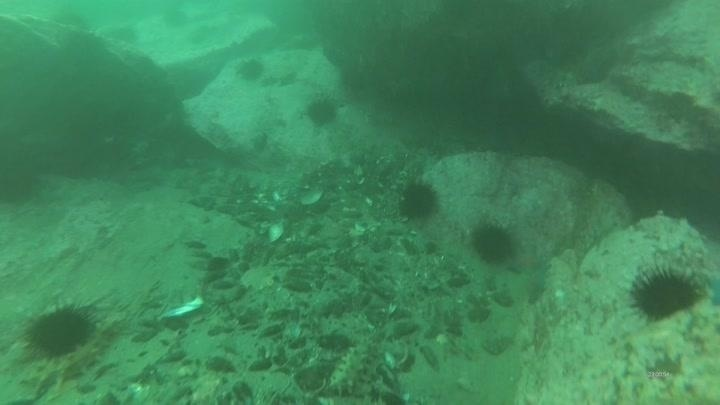echinus: (21, 299, 99, 362), (626, 262, 703, 325), (469, 220, 518, 266), (396, 178, 441, 223), (45, 3, 91, 39), (303, 94, 341, 128), (103, 19, 136, 48), (156, 6, 192, 32), (181, 22, 217, 48), (234, 56, 267, 84)
holothurian: (17, 336, 108, 396), (324, 342, 373, 398)
starfish: (505, 247, 547, 278), (703, 271, 720, 310)
